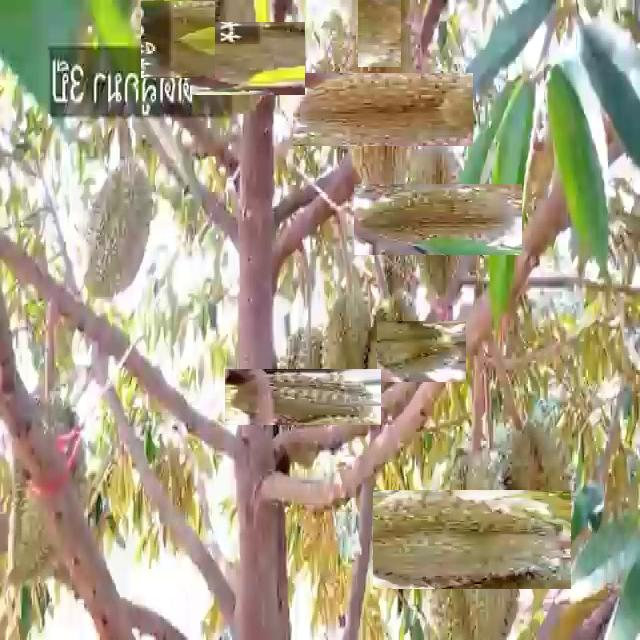durian: (398, 464, 546, 614), (319, 45, 447, 173), (378, 159, 498, 279), (80, 153, 160, 311), (249, 344, 356, 450), (503, 416, 572, 578), (349, 302, 448, 401), (200, 11, 294, 106), (319, 280, 377, 422), (140, 1, 216, 77), (348, 0, 412, 57)
